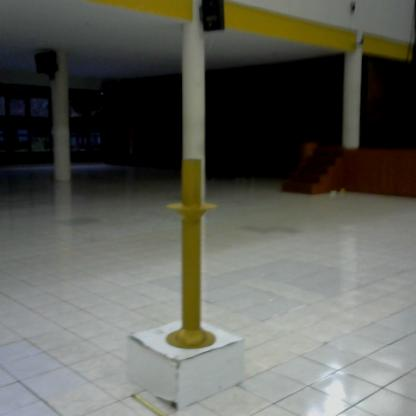pole: (162, 150, 221, 355)
